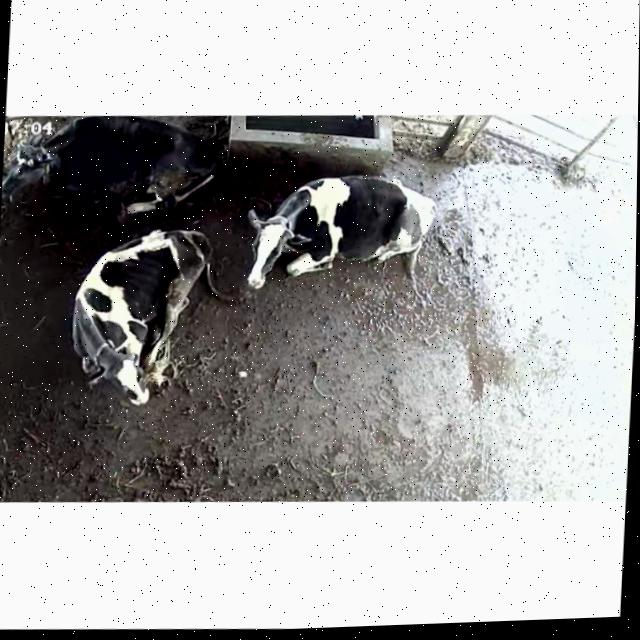lay: (235, 157, 476, 314), (69, 219, 231, 420), (0, 108, 221, 223)
